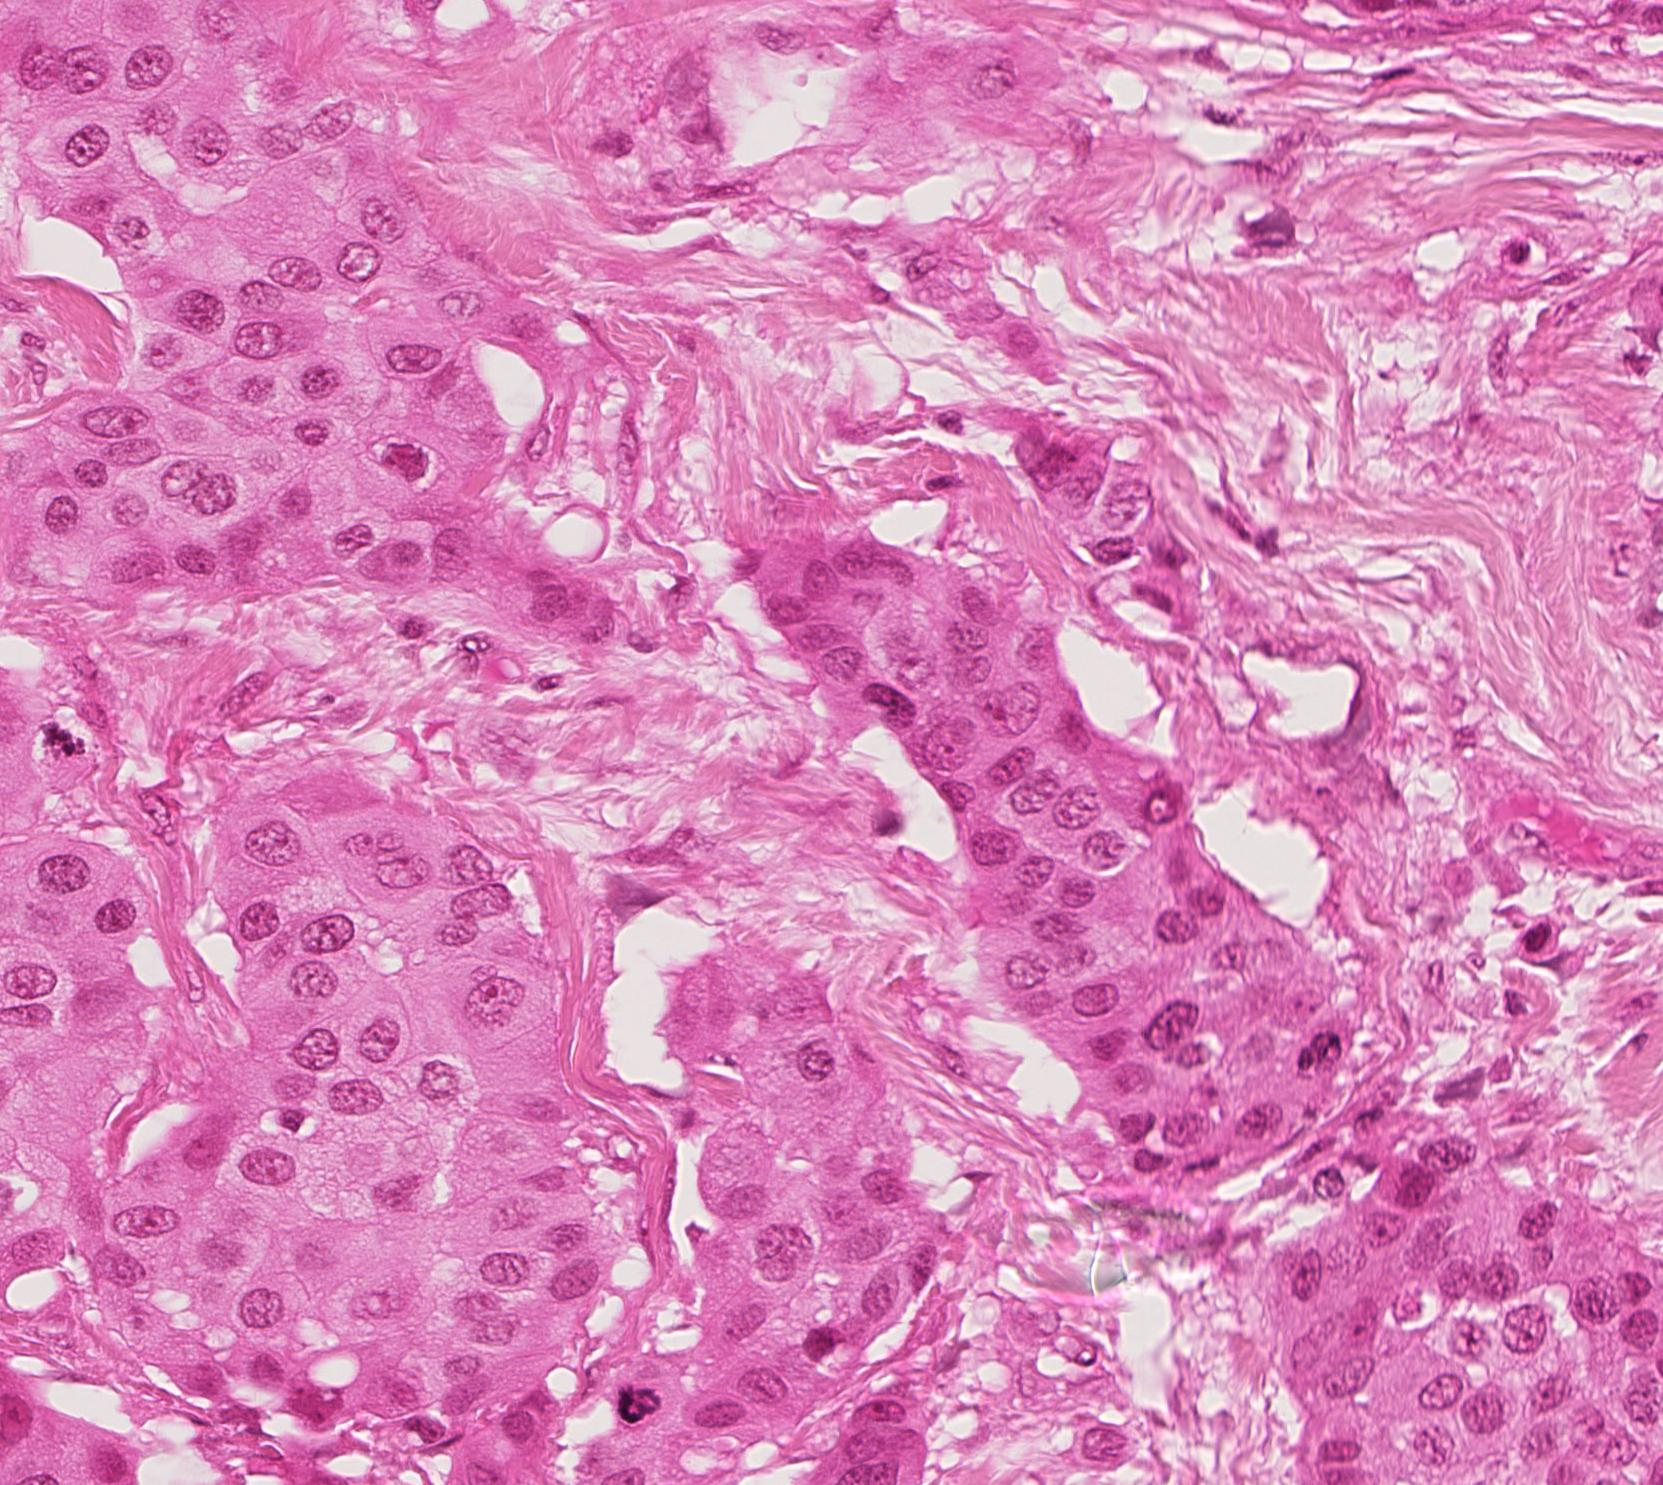mitosis: (608, 1365, 668, 1425), (34, 710, 95, 770)
